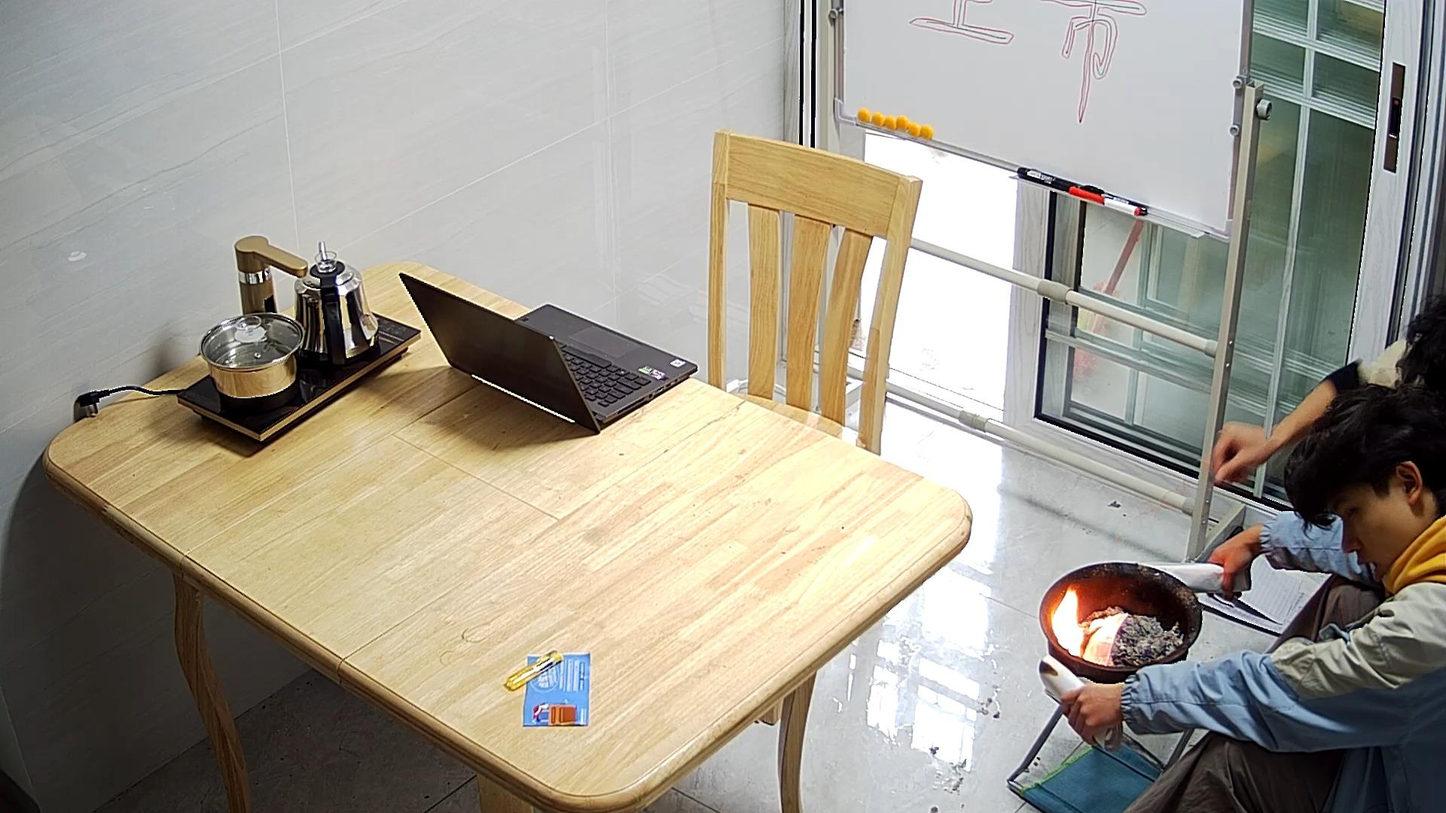fire: (1051, 589, 1091, 654), (1104, 617, 1119, 634)
